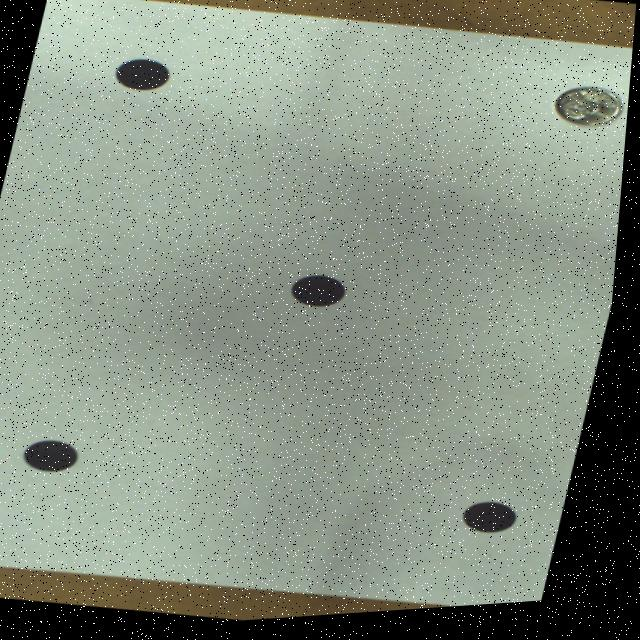head1bath: (558, 96, 623, 135)
space: (31, 441, 86, 473), (296, 280, 351, 312), (117, 61, 170, 93), (472, 509, 525, 541)
